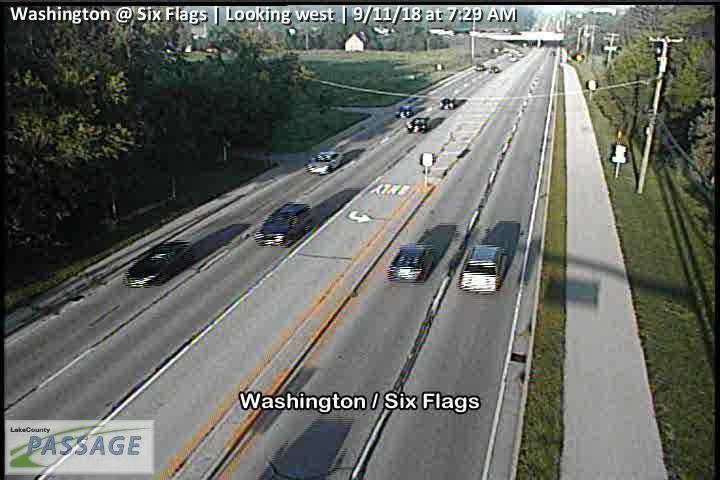SUV: (252, 202, 317, 248), (456, 242, 511, 295)
Sedan: (120, 240, 192, 290), (386, 243, 439, 285), (304, 150, 346, 175), (406, 116, 431, 134), (394, 104, 414, 119), (438, 95, 456, 111), (488, 64, 502, 75), (474, 62, 486, 72)
